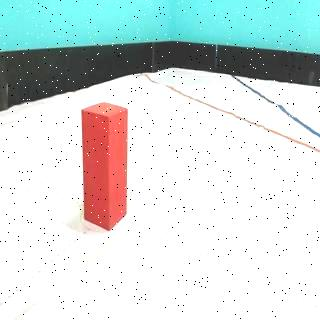redbox: (80, 101, 130, 232)
